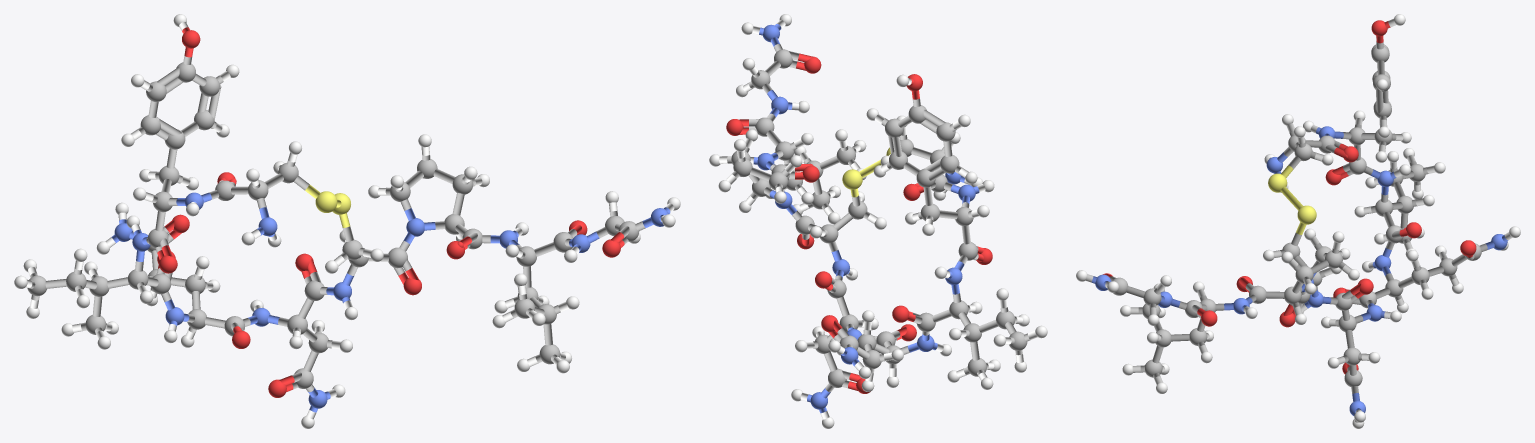
Rendered from DRUGA.glb.
3 renders of one model, left to right at view 1: azimuth 30°, elevation 25°; view 2: azimuth 150°, elevation 25°; view 3: azimuth 270°, elevation 25°, orthographic. The views are drawn at different scales.
Visible parts, largest first — view 1: Object_20, Object_18, Object_19, Object_17, Object_34, Object_32, Object_24, Object_5, Object_21, Object_33, Object_28, Object_4 (+7 smaller); view 2: Object_20, Object_19, Object_18, Object_17, Object_32, Object_34, Object_24, Object_5, Object_28, Object_33, Object_21, Object_4 (+8 smaller); view 3: Object_20, Object_17, Object_18, Object_19, Object_32, Object_34, Object_24, Object_33, Object_21, Object_5, Object_28, Object_4 (+7 smaller).
Boxes of the visible parts, <box> form: Object_20: <box>29,55,645,388</box>; Object_18: <box>140,62,624,324</box>; Object_19: <box>27,110,533,334</box>; Object_17: <box>107,163,639,392</box>; Object_34: <box>26,71,680,339</box>; Object_32: <box>105,22,674,419</box>; Object_24: <box>157,27,624,391</box>; Object_5: <box>134,192,668,310</box>; Object_21: <box>148,155,560,318</box>; Object_33: <box>121,14,528,247</box>; Object_28: <box>147,230,529,428</box>; Object_4: <box>111,200,670,412</box>; Object_20: <box>749,44,1030,387</box>; Object_19: <box>769,147,1027,376</box>; Object_18: <box>731,70,959,219</box>; Object_17: <box>774,49,978,392</box>; Object_32: <box>719,20,985,419</box>; Object_34: <box>736,14,1037,380</box>; Object_24: <box>739,53,992,390</box>; Object_5: <box>753,24,975,341</box>; Object_28: <box>791,212,903,428</box>; Object_33: <box>709,74,994,212</box>; Object_21: <box>727,146,977,260</box>; Object_4: <box>759,24,979,413</box>; Object_20: <box>1109,41,1428,386</box>; Object_17: <box>1112,143,1487,393</box>; Object_18: <box>1143,44,1390,347</box>; Object_19: <box>1138,101,1481,314</box>; Object_32: <box>1085,18,1512,422</box>; Object_34: <box>1076,36,1435,363</box>; Object_24: <box>1105,20,1421,369</box>; Object_33: <box>1246,14,1405,324</box>; Object_21: <box>1154,140,1366,347</box>; Object_5: <box>1095,126,1396,314</box>; Object_28: <box>1161,245,1463,428</box>; Object_4: <box>1091,127,1508,415</box>.
Size of the model in its own units: 21.64 by 17.6 by 19.2.
